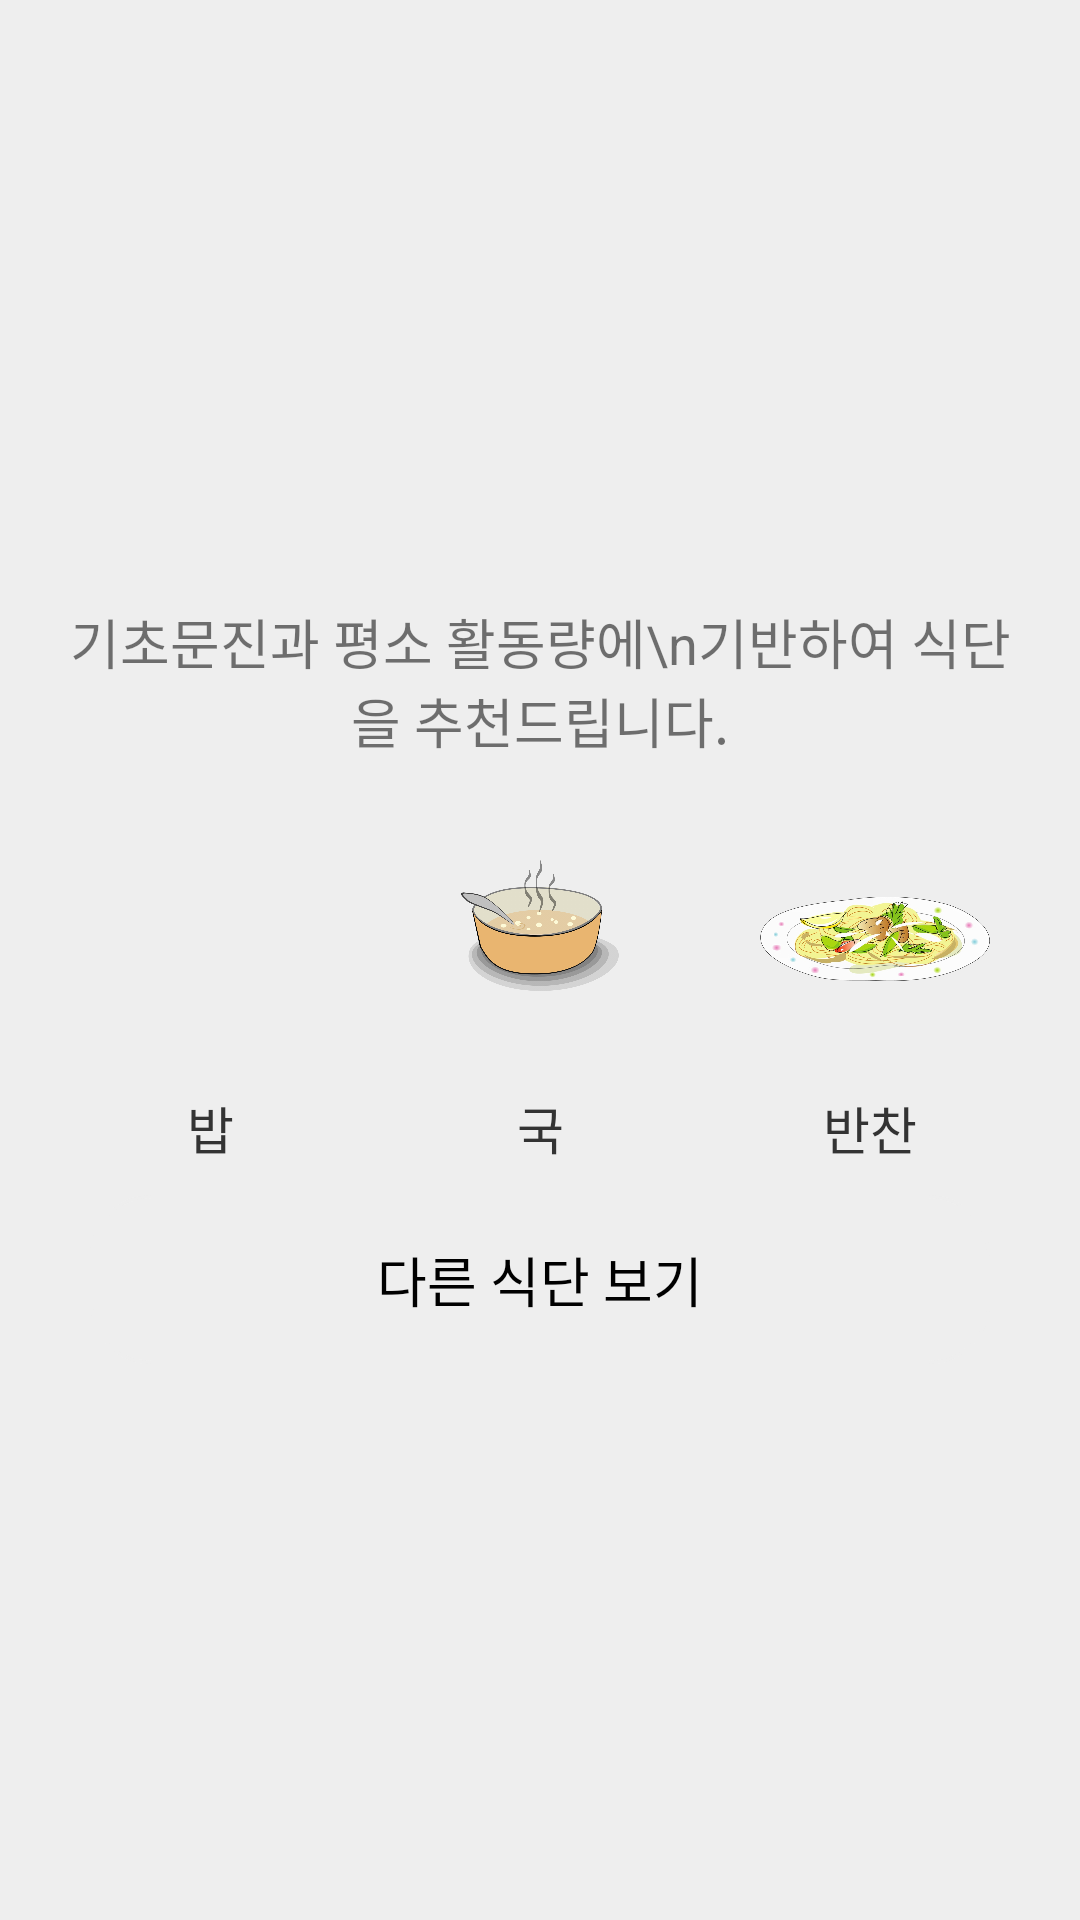

Where icons sit on this 1080 × 1920 app screen, as (x1, y1, x2, y2):
soup: (461, 860, 619, 991)
